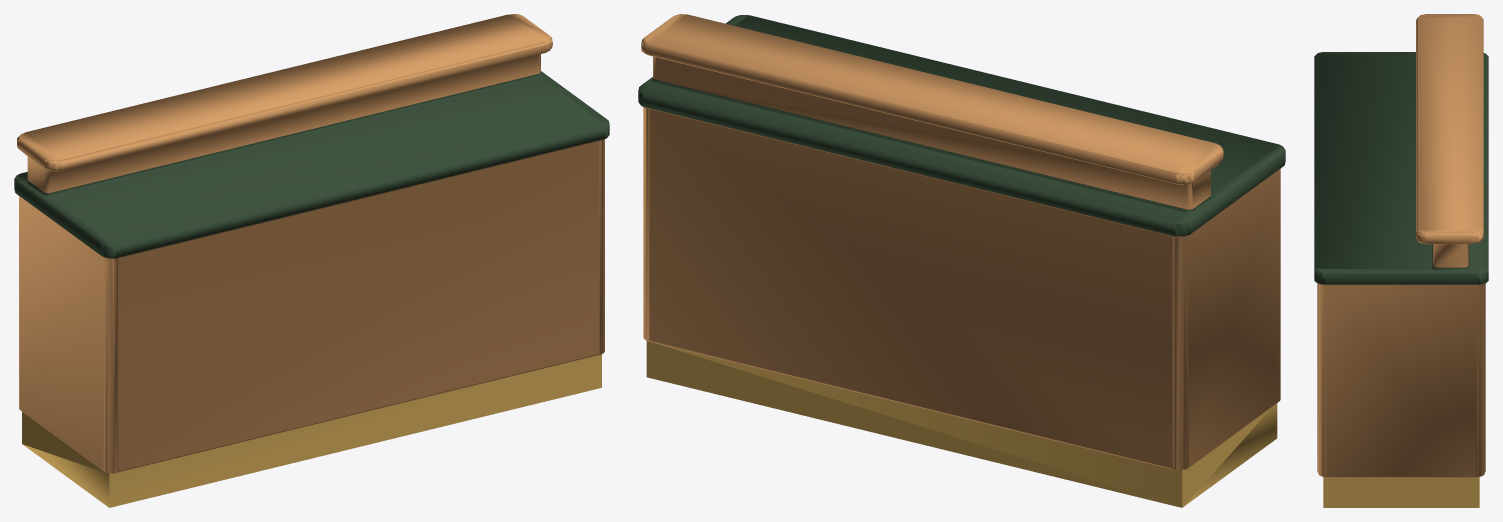
File: GJH_NEW_counter_shop.glb
The picture shows the model from 3 angles, left to right: view 1: azimuth 30°, elevation 25°; view 2: azimuth 150°, elevation 25°; view 3: azimuth 270°, elevation 25°; orthographic projection. The views are drawn at different scales.
Parts seen in each view (by area): view 1: GJH_NEW_counter_shop; view 2: GJH_NEW_counter_shop; view 3: GJH_NEW_counter_shop.
Part boxes in pixels (x1,y1,x2,y2): GJH_NEW_counter_shop: (14, 14, 609, 507); GJH_NEW_counter_shop: (638, 14, 1285, 507); GJH_NEW_counter_shop: (1314, 14, 1488, 507).
Size of the model in its own units: 1.8 by 1.05 by 0.6.
